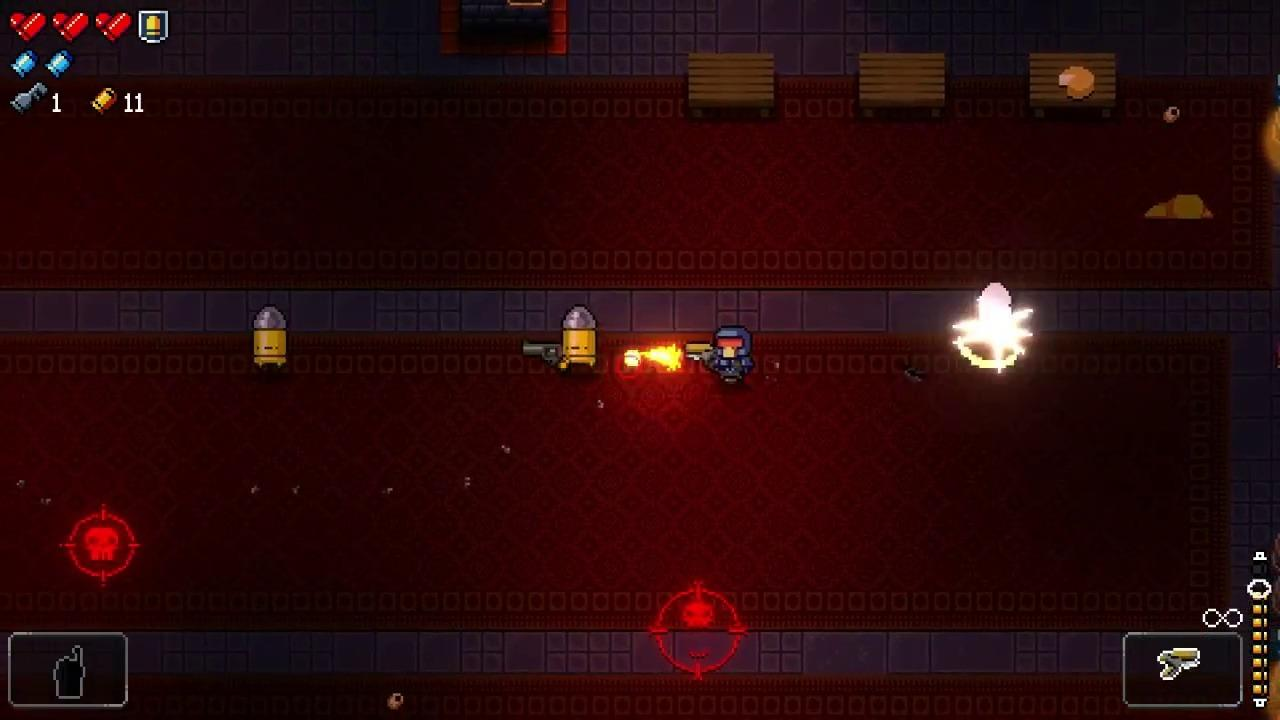bullet_kin: (253, 305, 288, 370), (562, 304, 596, 368)
dead_apprentice_gunjurer: (1144, 194, 1215, 219)
enemy_spawn: (648, 580, 749, 681), (57, 502, 141, 589)
player: (713, 326, 752, 380)
table: (1029, 52, 1115, 117), (860, 53, 946, 117), (689, 54, 774, 118)
